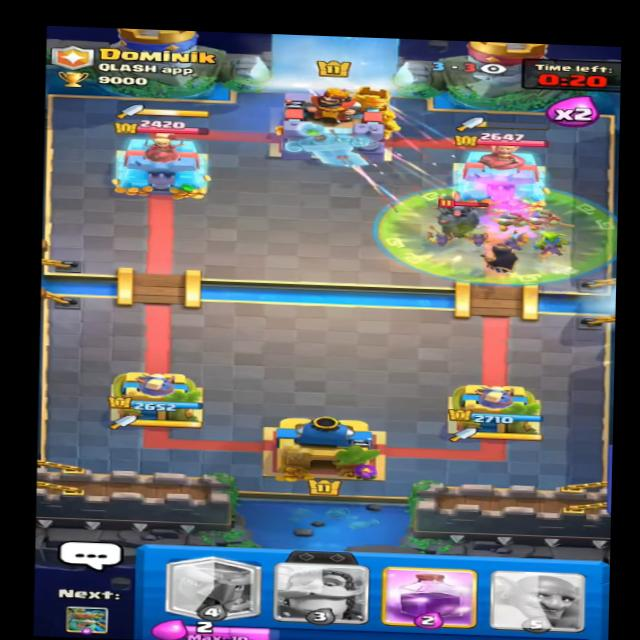arrows: (299, 86, 591, 254)
pekka: (430, 196, 488, 240)
